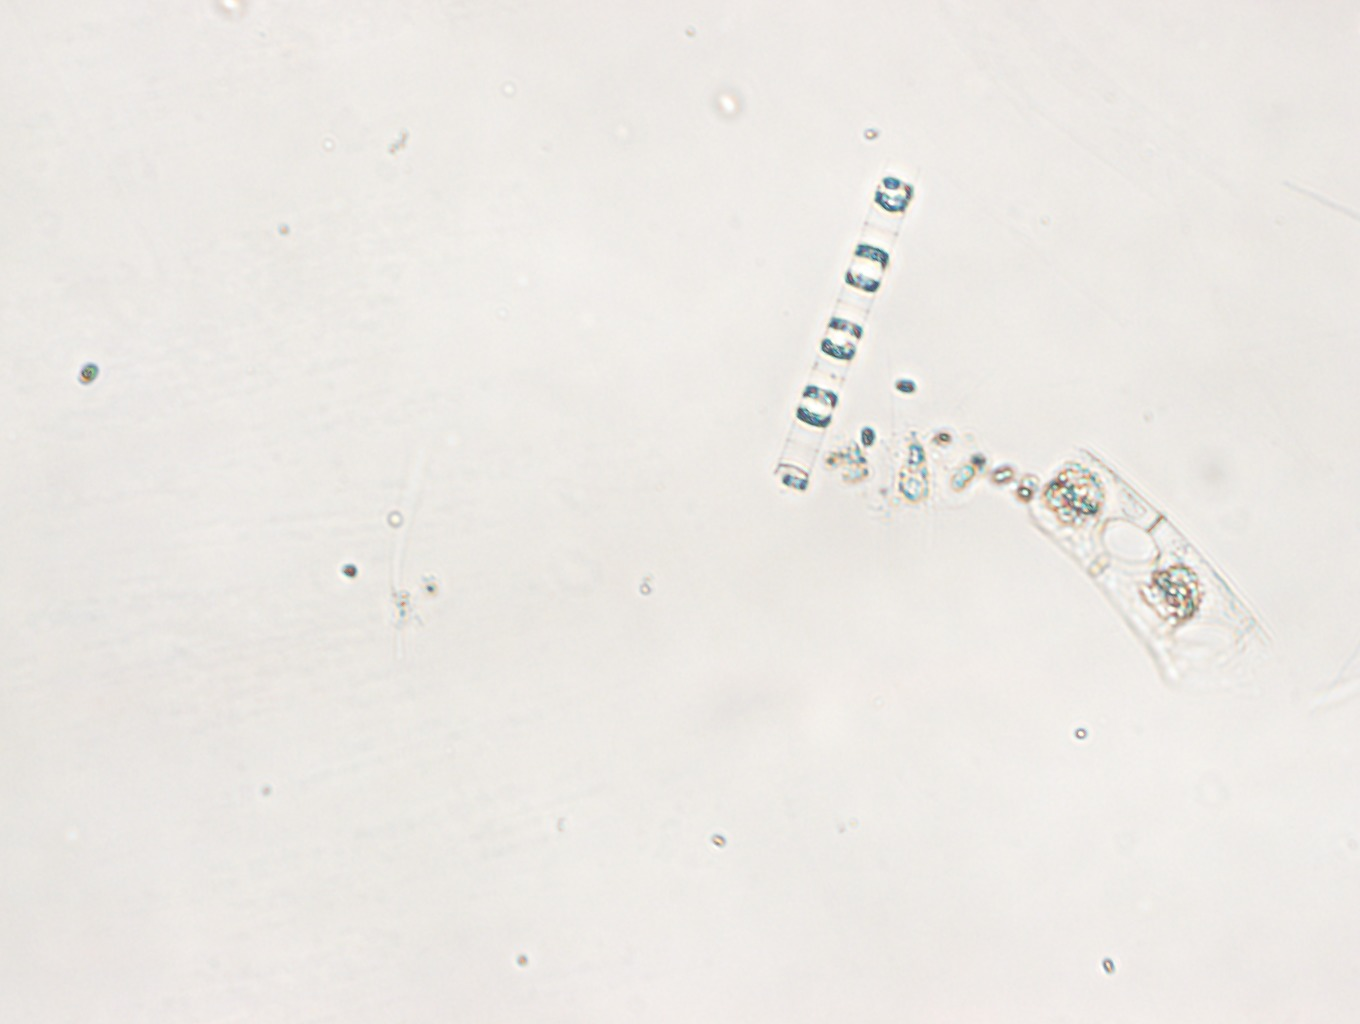eucampia: (1031, 442, 1268, 692)
skeletonema: (774, 156, 920, 484)
